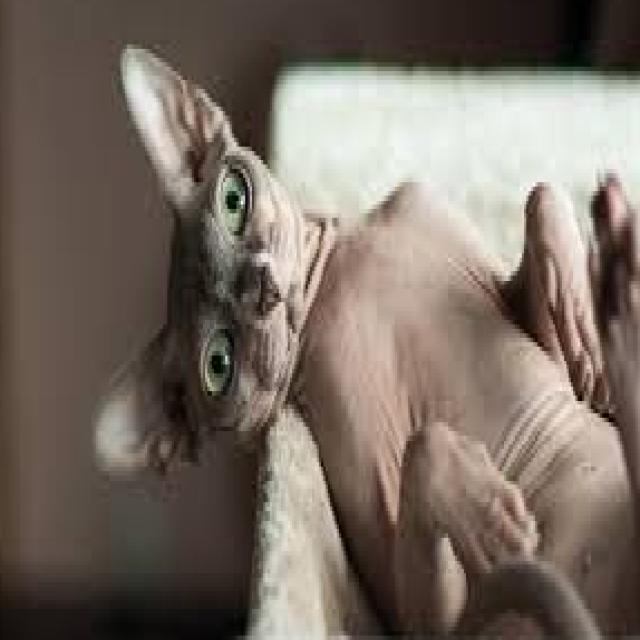Sphynx: (87, 31, 640, 636)
